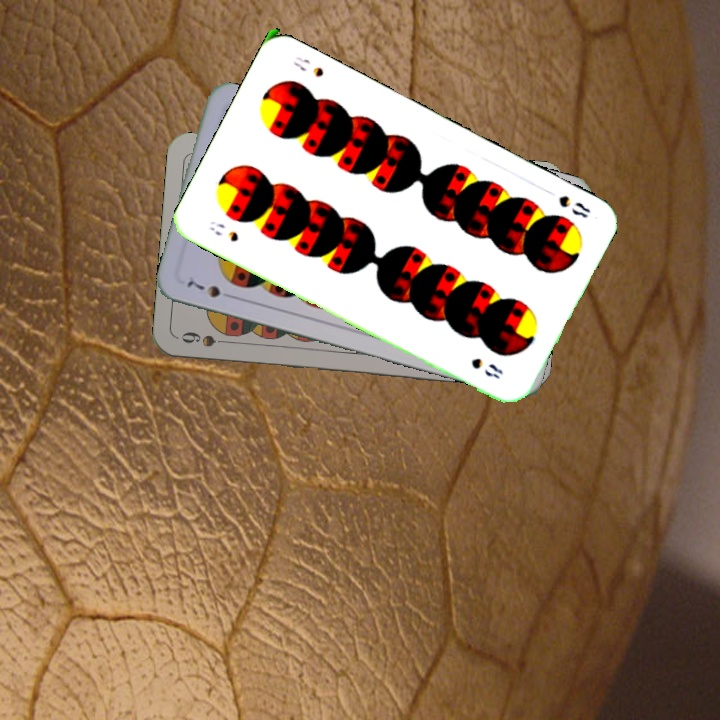S7: (182, 276, 238, 302)
S8: (554, 191, 593, 221), (205, 217, 241, 245)
S9: (177, 328, 236, 350)
